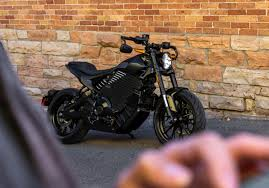motorcycle: (41, 33, 206, 147)
